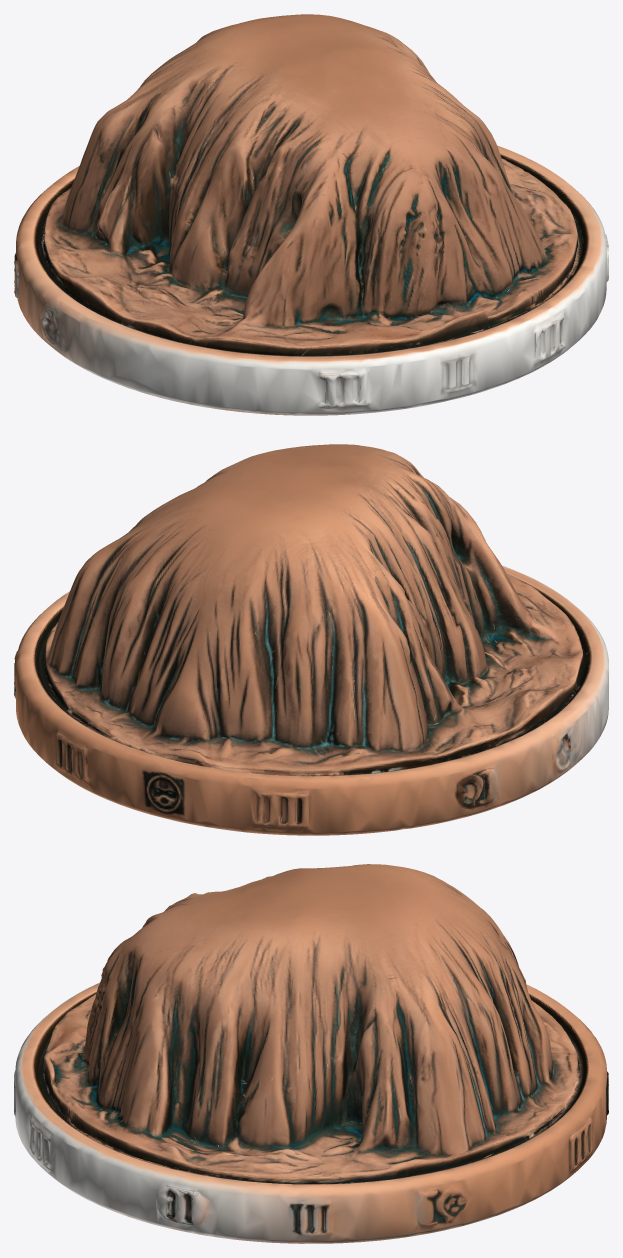
File: uluru_bronze.glb
3 renders of one model, top to bottom at view 1: azimuth 30°, elevation 25°; view 2: azimuth 150°, elevation 25°; view 3: azimuth 270°, elevation 25°, orthographic.
Parts seen in each view (by area): view 1: Mesh_0; view 2: Mesh_0; view 3: Mesh_0.
Part boxes in pixels (x1,y1,x2,y2): Mesh_0: (14, 14, 608, 415); Mesh_0: (14, 444, 608, 835); Mesh_0: (14, 864, 608, 1243).
Bounding box in the file's own units: 1.91 × 0.846 × 1.91.
1 material, 1 textured.
